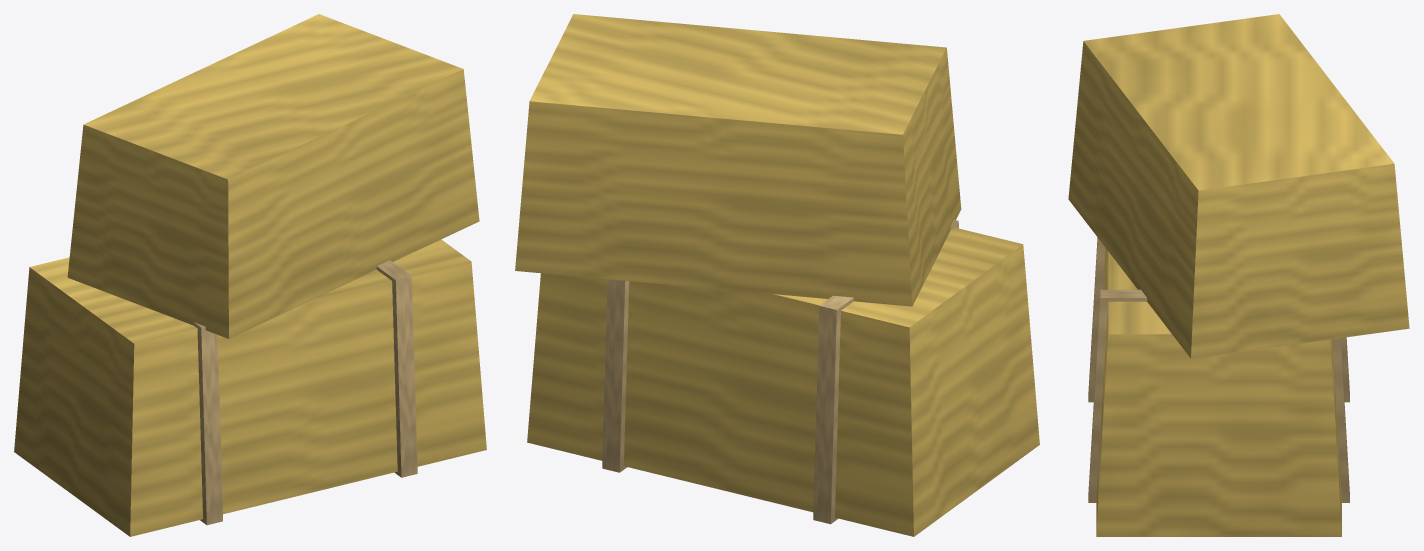
Rendered from prop_hay_bale_01.glb.
3 renders of one model, left to right at view 1: azimuth 30°, elevation 25°; view 2: azimuth 150°, elevation 25°; view 3: azimuth 270°, elevation 25°, orthographic. The views are drawn at different scales.
Parts seen in each view (by area): view 1: prop_hay_bale_01; view 2: prop_hay_bale_01; view 3: prop_hay_bale_01.
Part boxes in pixels (x1,y1,x2,y2): prop_hay_bale_01: [14, 14, 486, 536]; prop_hay_bale_01: [515, 14, 1039, 536]; prop_hay_bale_01: [1068, 14, 1409, 536].
Size of the model in its own units: 1.22 by 1.01 by 0.8606.
Materials: 1 (1 with a texture image).
